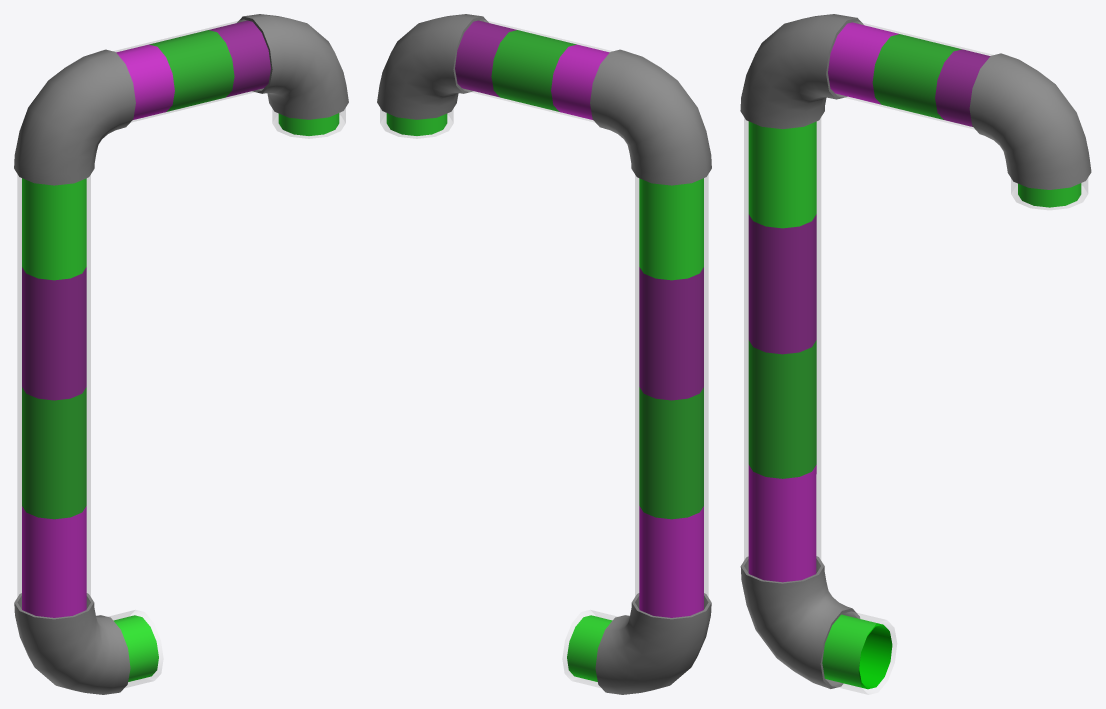
File: pipe_stand_1.fbx
3 renders of one model, left to right at view 1: azimuth 30°, elevation 25°; view 2: azimuth 150°, elevation 25°; view 3: azimuth 330°, elevation 25°, orthographic. The views are drawn at different scales.
Parts seen in each view (by area): view 1: pipe_stand purple.green; view 2: pipe_stand purple.green; view 3: pipe_stand purple.green.
Part boxes in pixels (x1=…): pipe_stand purple.green: x1=14, y1=14, x2=348, y2=694; pipe_stand purple.green: x1=377, y1=14, x2=711, y2=694; pipe_stand purple.green: x1=740, y1=14, x2=1091, y2=694.
Size of the model in its own units: 139 by 260 by 29.84.
